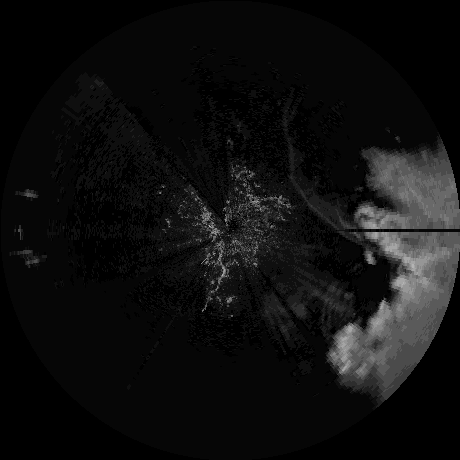frontgust: (291, 168, 367, 247)
